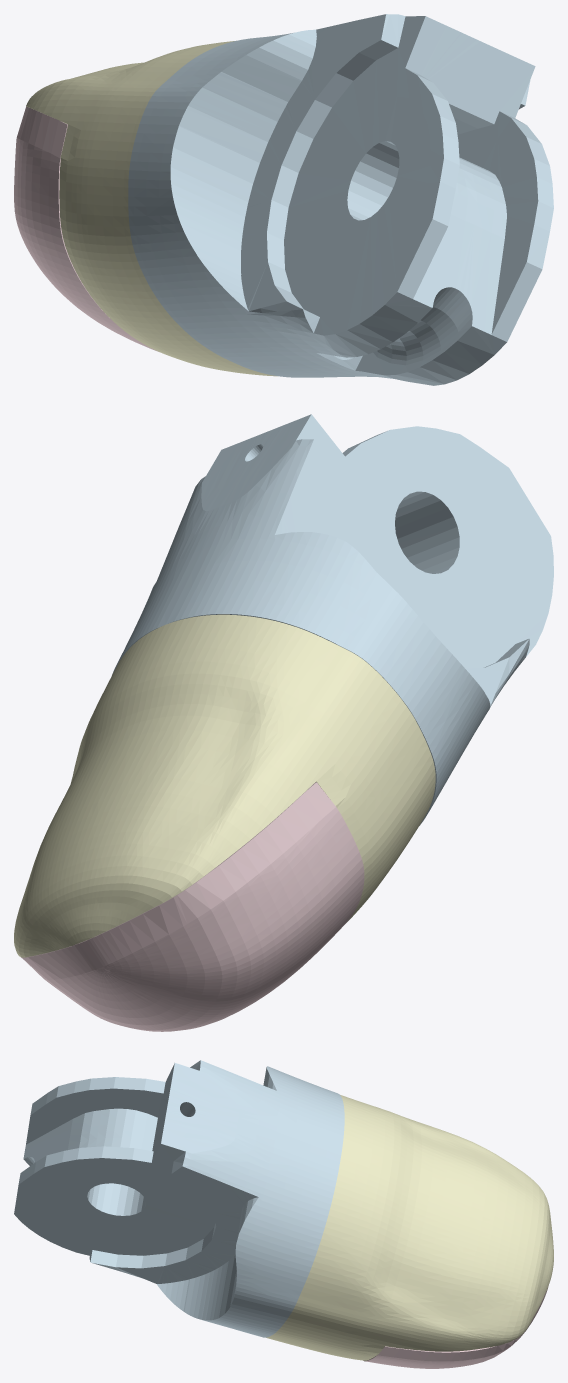
File: i02_leftHand_ringFingerTip_visual.obj.full.glb
3 views of the same model, one above another, from view 1: azimuth 30°, elevation 25°; view 2: azimuth 150°, elevation 25°; view 3: azimuth 270°, elevation 25° (orthographic). The views are drawn at different scales.
Size of the model in its own units: 0.1603 by 0.2072 by 0.326.
